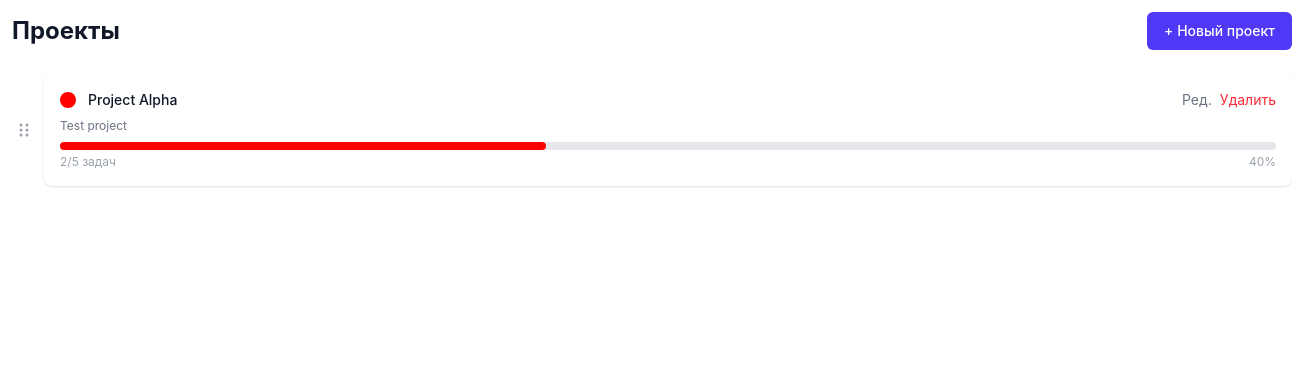
Test: Projects page › project CRUD › cancels create form
The width and height of the screenshot is (1304, 388).
Click the button "+ Новый проект".
click(1220, 31)  # box x1=1147 y1=12 x2=1292 y2=50
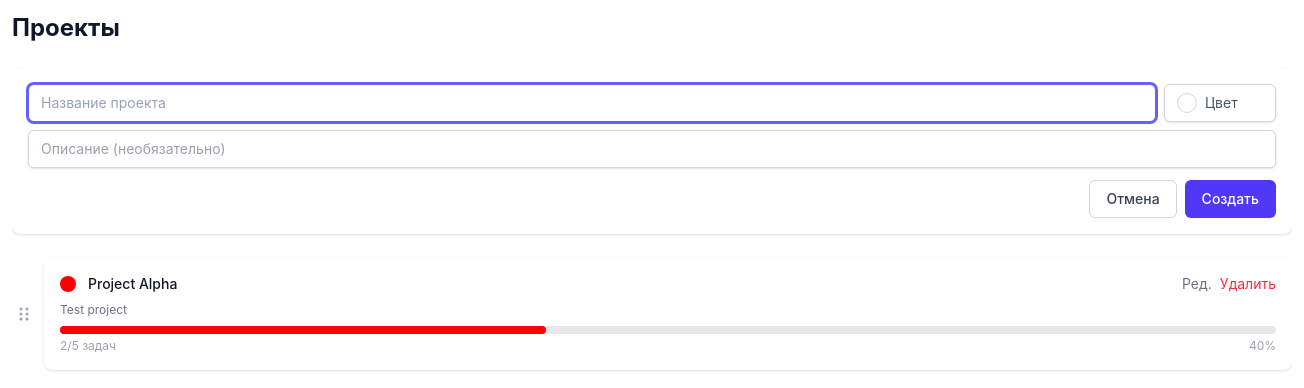
Click the button "Отмена".
click(1133, 199)  # box x1=1089 y1=180 x2=1177 y2=218
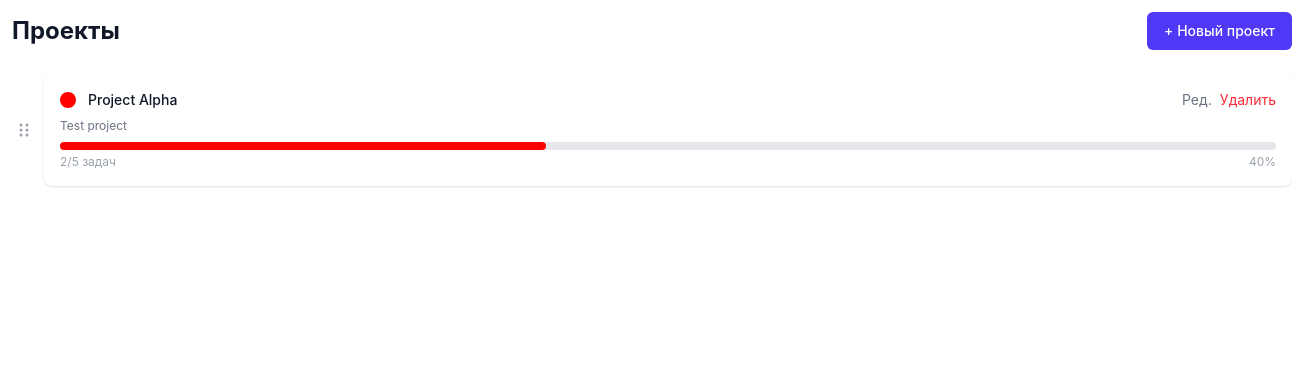
Now the button "+ Новый проект" is shown, box x1=1147 y1=12 x2=1292 y2=50
